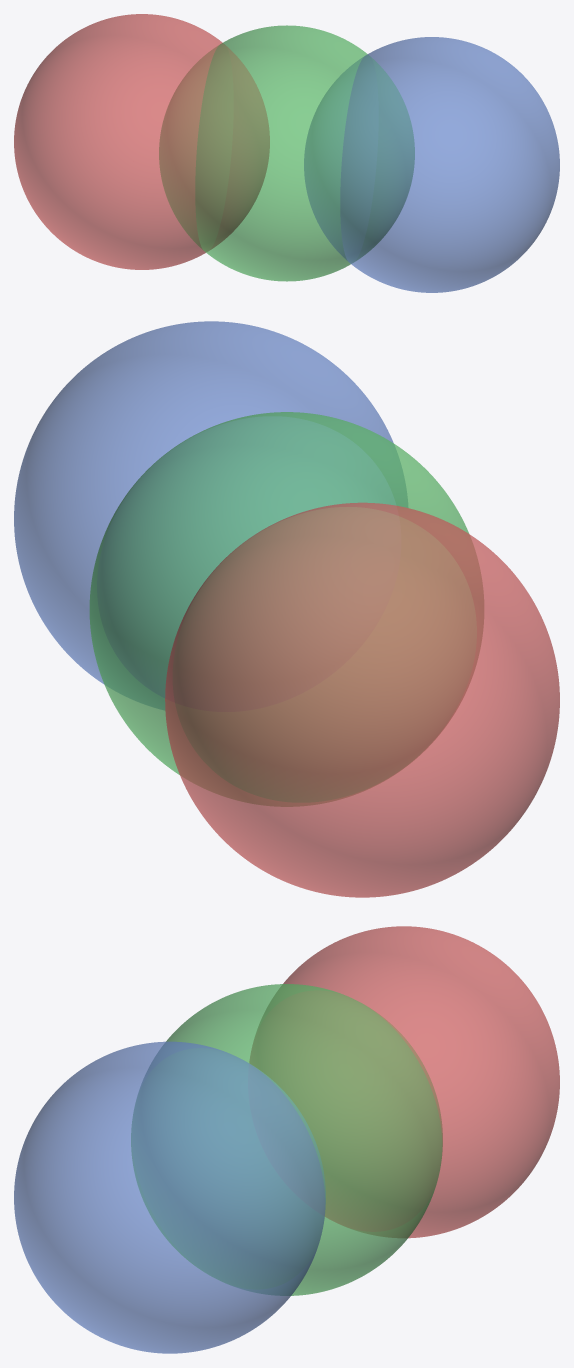
File: oit_sphere_fixture.gltf
The picture shows the model from 3 angles, top to bottom: view 1: azimuth 30°, elevation 25°; view 2: azimuth 150°, elevation 25°; view 3: azimuth 270°, elevation 25°; orthographic projection. The views are drawn at different scales.
Visible parts, largest first — view 1: oit_blue, oit_red, oit_green; view 2: oit_red, oit_green, oit_blue; view 3: oit_blue, oit_green, oit_red.
Boxes of the visible parts, x1,y1,x2,y2 form: oit_blue: (304, 37, 559, 292); oit_red: (14, 14, 269, 269); oit_green: (159, 25, 414, 281); oit_red: (165, 502, 559, 897); oit_green: (89, 412, 483, 806); oit_blue: (14, 321, 407, 709); oit_blue: (14, 1041, 325, 1353); oit_green: (131, 984, 442, 1295); oit_red: (249, 926, 559, 1238).
Bounding box in the file's own units: 3 × 1.6 × 2.8.
